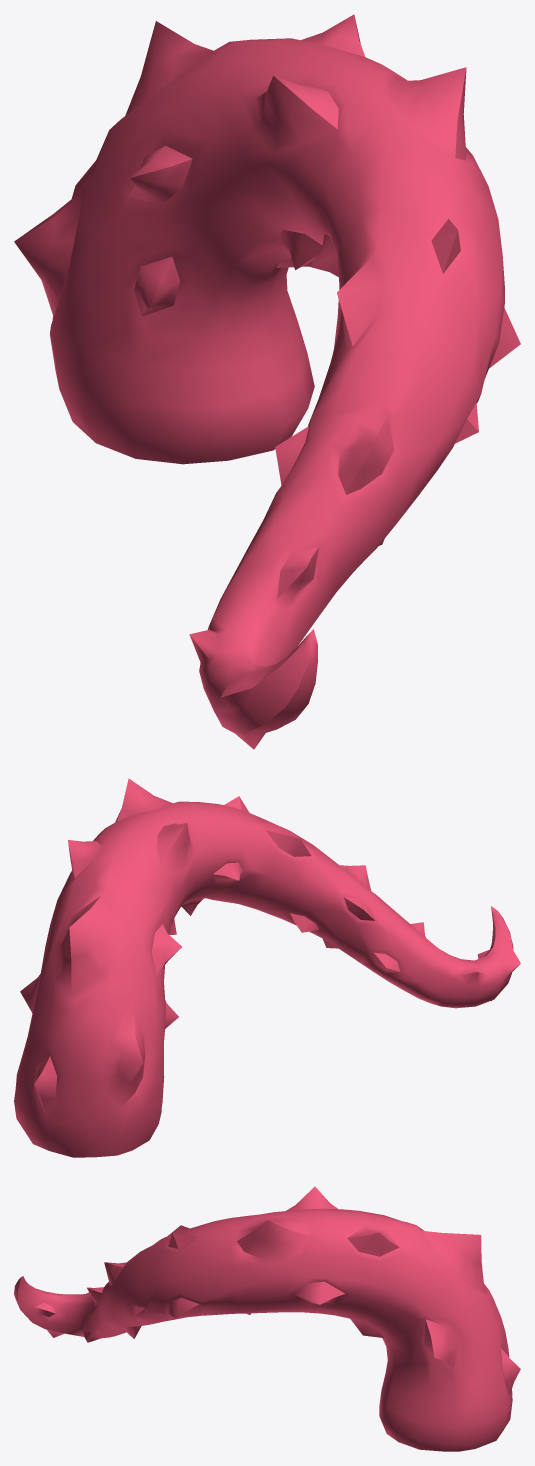
The model's file is SM_thorny_liana_01.fbx.
The picture shows the model from 3 angles, top to bottom: view 1: azimuth 30°, elevation 25°; view 2: azimuth 150°, elevation 25°; view 3: azimuth 270°, elevation 25°; orthographic projection. The views are drawn at different scales.
Parts seen in each view (by area): view 1: SM_thorny_liana_01; view 2: SM_thorny_liana_01; view 3: SM_thorny_liana_01.
Boxes of the visible parts, x1,y1,x2,y2 form: SM_thorny_liana_01: [14, 14, 520, 749]; SM_thorny_liana_01: [14, 778, 520, 1157]; SM_thorny_liana_01: [14, 1186, 520, 1451].
Size of the model in its own units: 157 by 139 by 267.
